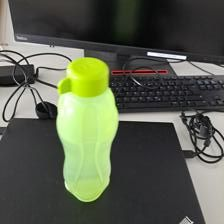bottle: (55, 55, 119, 203)
